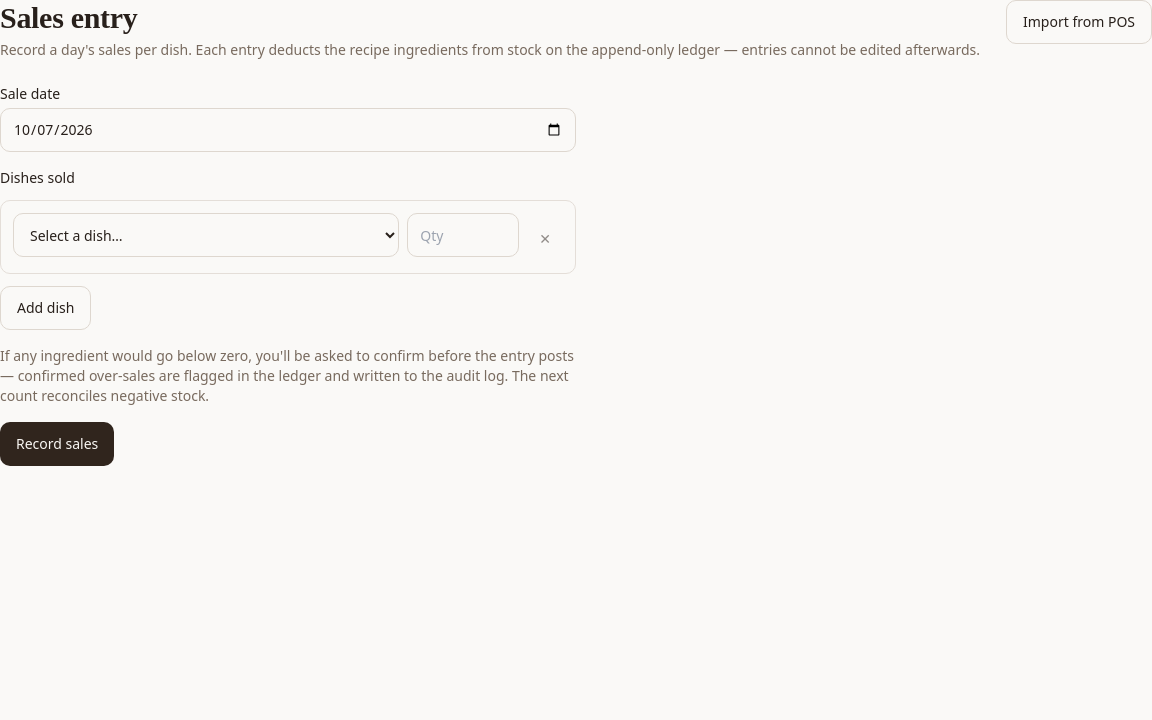
Test case: over-sale confirmation › asks for explicit confirmation listing the flagged items
This screenshot has width=1152, height=720.
Select "Butter Chicken" in the dropdown named "dish 1" at (206, 235), box [13,213,399,257]
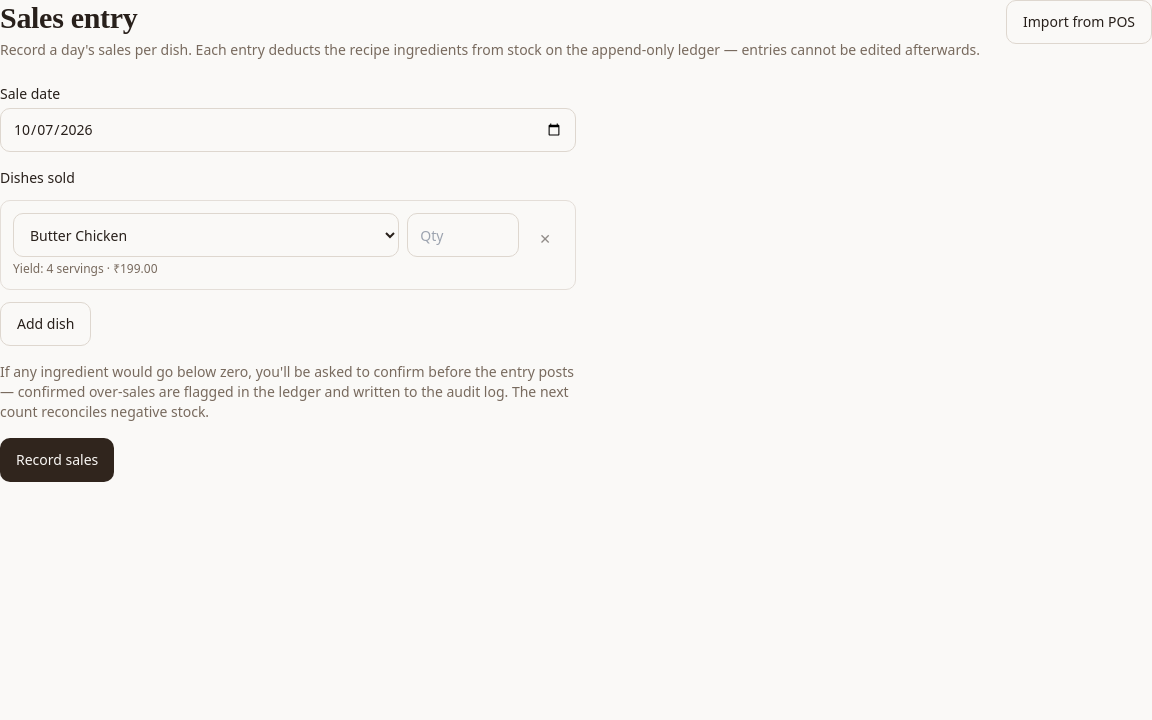
Type "8" into the number field named "dishes sold (butter chicken)" at (463, 235), box [407,213,519,257]
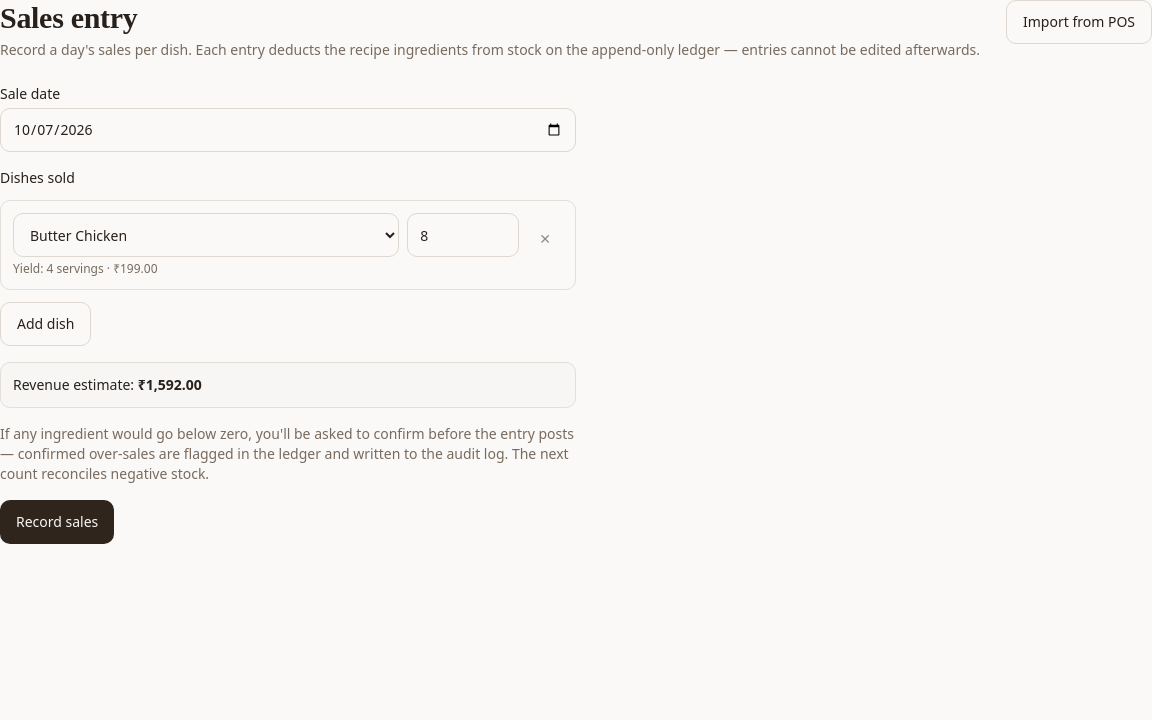
Click the button "Record sales" at (57, 522), box [0,500,114,544]
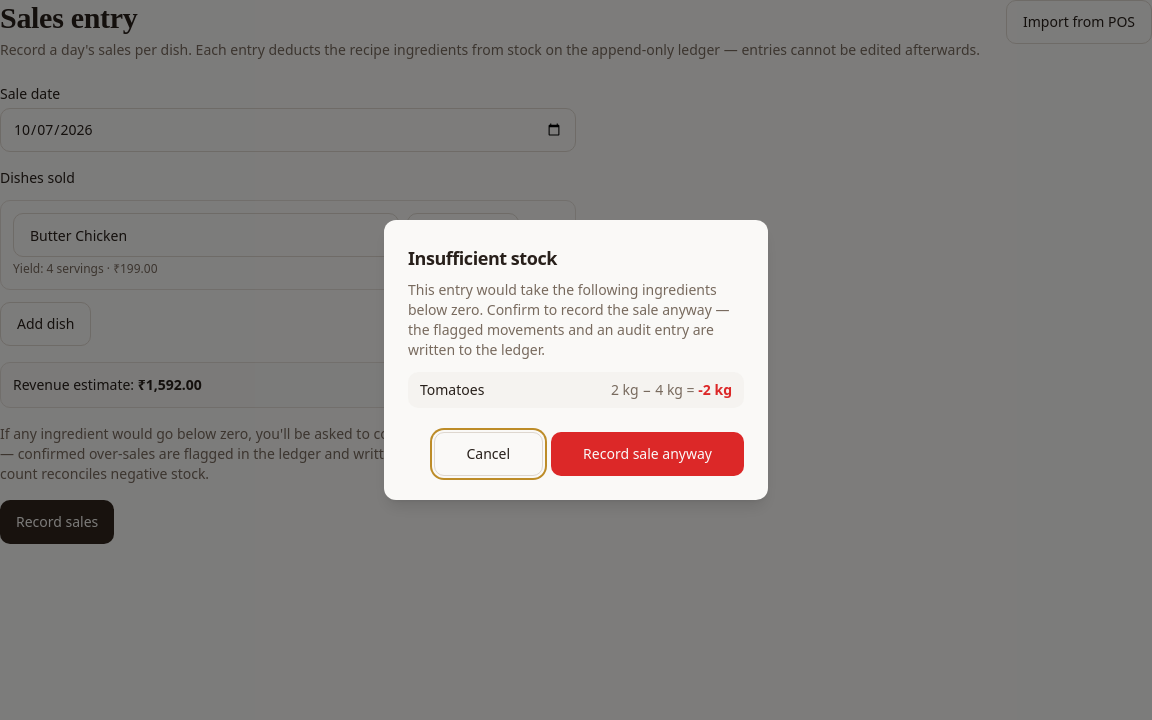
Check: the dialog shows "Insufficient stock", box [408,246,557,270]
Check: the dialog shows "tomatoes", box [420,380,484,399]
Check: the dialog shows "-2", box [698,380,711,399]
